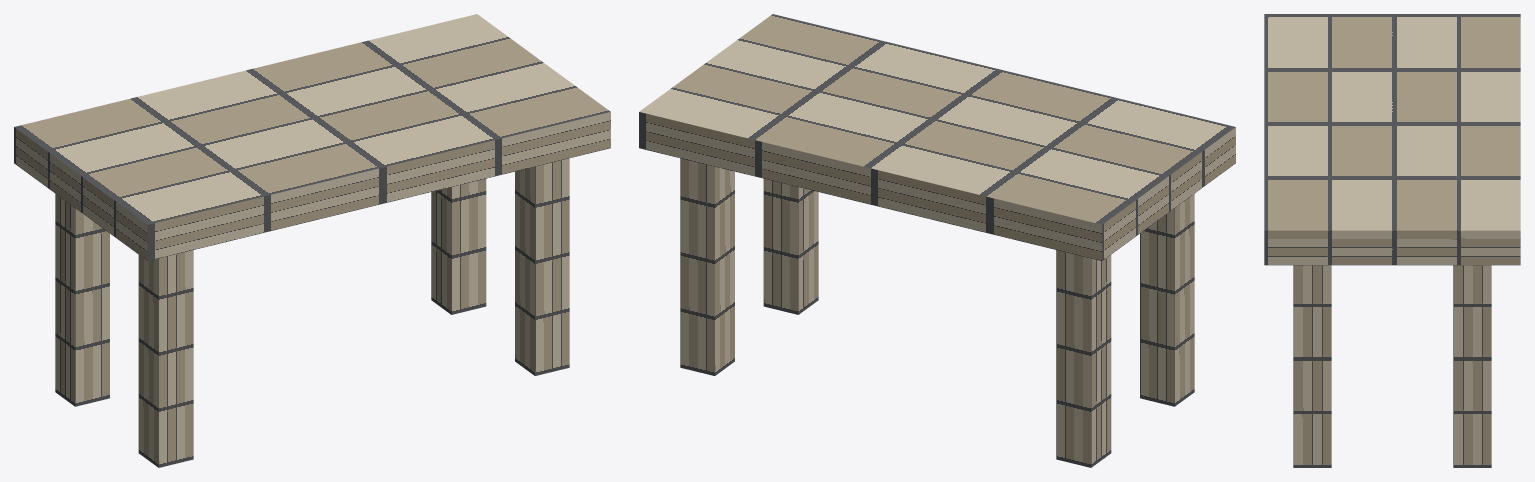
The model's file is layout-table.glb.
The picture shows the model from 3 angles, left to right: view 1: azimuth 30°, elevation 25°; view 2: azimuth 150°, elevation 25°; view 3: azimuth 270°, elevation 25°; orthographic projection. The views are drawn at different scales.
Parts seen in each view (by area): view 1: Tabletop, Table leg (×4); view 2: Tabletop, Table leg (×4); view 3: Tabletop, Table leg (×2).
Boxes of the visible parts, <box> form: Tabletop: <box>14,14,610,260</box>; Table leg (×4): <box>55,158,569,467</box>; Tabletop: <box>639,14,1235,260</box>; Table leg (×4): <box>680,158,1194,467</box>; Tabletop: <box>1264,14,1520,265</box>; Table leg (×2): <box>1293,265,1491,467</box>.
Bounding box in the file's own units: 1.6 × 0.86 × 0.8.
1 material, 1 textured.
